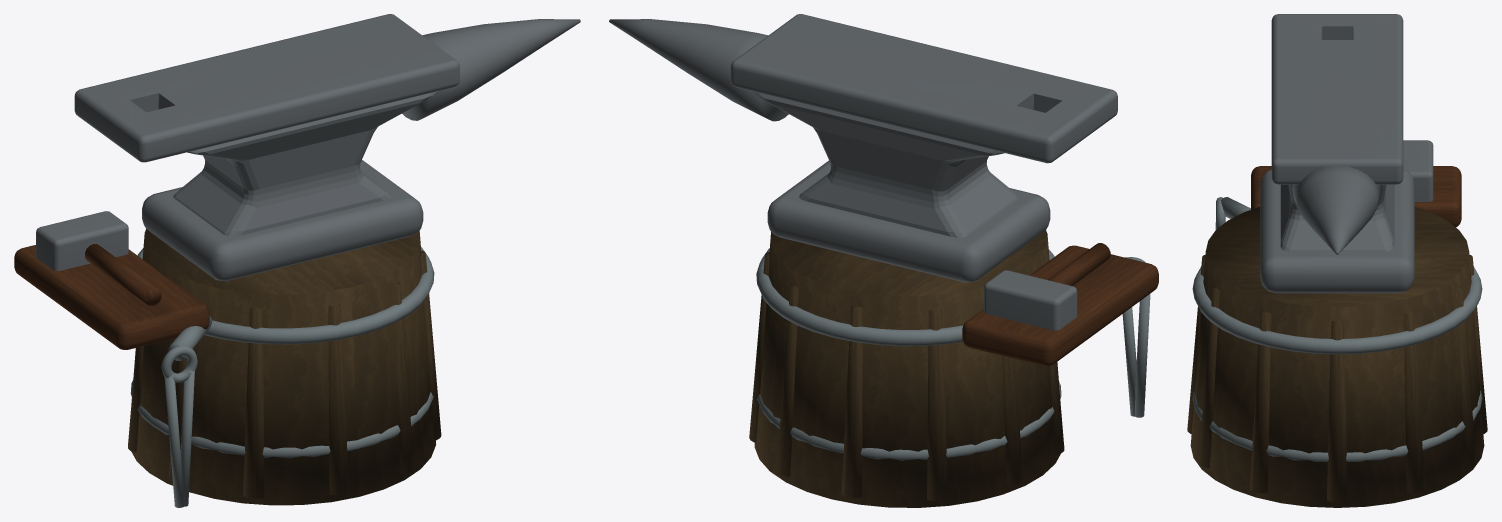
Rendered from anvil_station.glb.
The picture shows the model from 3 angles, left to right: view 1: azimuth 30°, elevation 25°; view 2: azimuth 150°, elevation 25°; view 3: azimuth 270°, elevation 25°; orthographic projection. The views are drawn at different scales.
Visible parts, largest first — view 1: Anvil spreading foot.001, Solid oak stump.001, Tool shelf.001, Stump band.002; view 2: Anvil spreading foot.001, Solid oak stump.001, Tool shelf.001, Stump band.002; view 3: Solid oak stump.001, Anvil spreading foot.001, Stump band.002, Tool shelf.001.
Boxes of the visible parts, x1,y1,x2,y2 form: Anvil spreading foot.001: (36, 14, 580, 281); Solid oak stump.001: (128, 229, 441, 505); Tool shelf.001: (14, 244, 209, 349); Stump band.002: (130, 247, 434, 507); Anvil spreading foot.001: (609, 14, 1117, 330); Solid oak stump.001: (749, 230, 1064, 507); Tool shelf.001: (962, 243, 1158, 366); Stump band.002: (756, 248, 1150, 460); Solid oak stump.001: (1187, 207, 1487, 507); Anvil spreading foot.001: (1260, 14, 1433, 293); Stump band.002: (1192, 197, 1482, 461); Tool shelf.001: (1251, 166, 1461, 227).
Size of the model in its own units: 1.48 by 1.03 by 0.7977.
4 materials, 2 textured.
